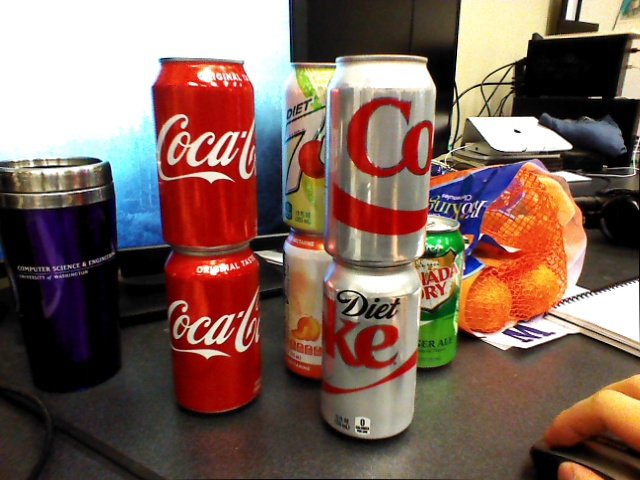can_coke: (152, 57, 258, 251), (165, 250, 262, 411)
can_diet_coke: (327, 54, 430, 262), (323, 265, 417, 439)
